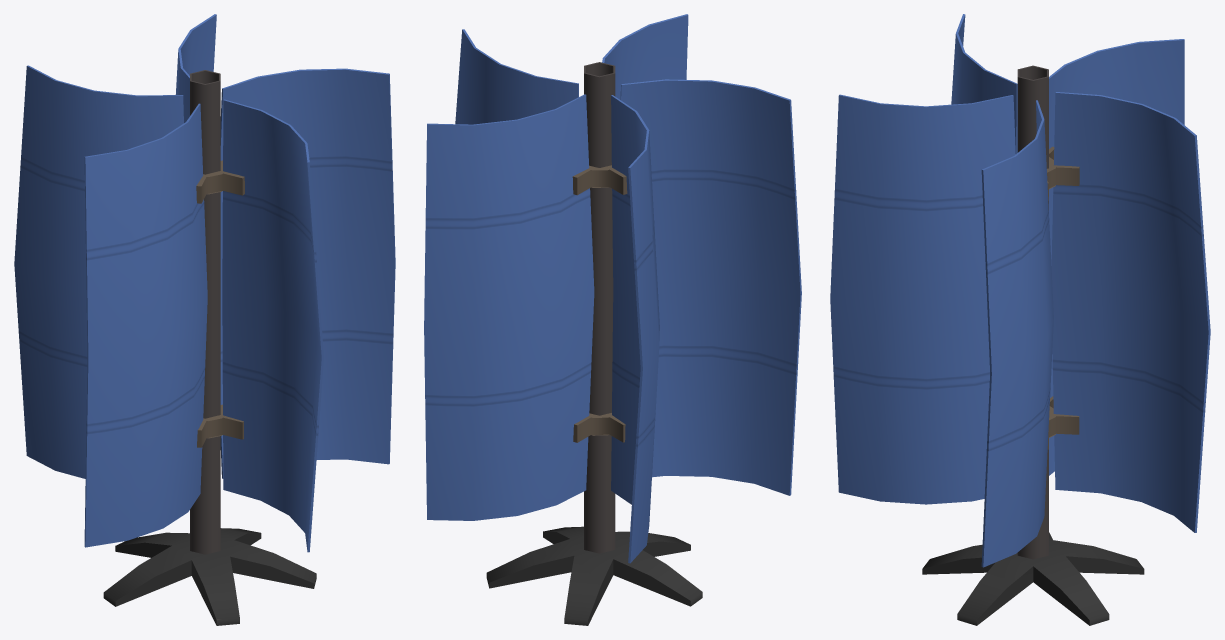
File: WindTurbine_Blue_dummy.fbx
The picture shows the model from 3 angles, left to right: view 1: azimuth 30°, elevation 25°; view 2: azimuth 150°, elevation 25°; view 3: azimuth 270°, elevation 25°; orthographic projection.
Visible parts, largest first — view 1: Rotor, Base; view 2: Rotor, Base; view 3: Rotor, Base.
Boxes of the visible parts, x1,y1,x2,y2 form: Rotor: (14, 14, 395, 554); Base: (103, 528, 316, 625); Rotor: (424, 14, 801, 563); Base: (486, 526, 702, 625); Rotor: (830, 14, 1210, 567); Base: (922, 532, 1144, 625).
Bounding box in the file's own units: 79.33 × 116 × 78.16.
1 material, 1 textured.
